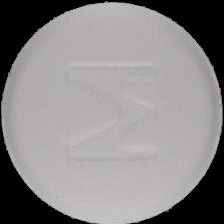54868-6376: (0, 0, 224, 224)
